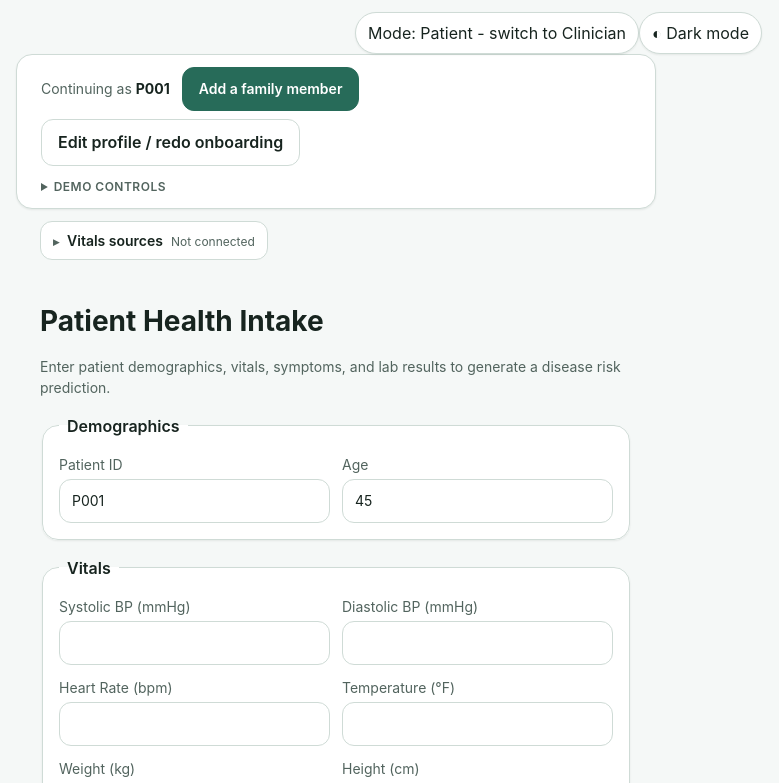
Test: App role selection › lets the role be changed at any time from a visible header control
The image size is (779, 783).
Click the button "Mode: Patient - switch to Clinician". click: click(497, 33)
box: x1=355 y1=12 x2=639 y2=54
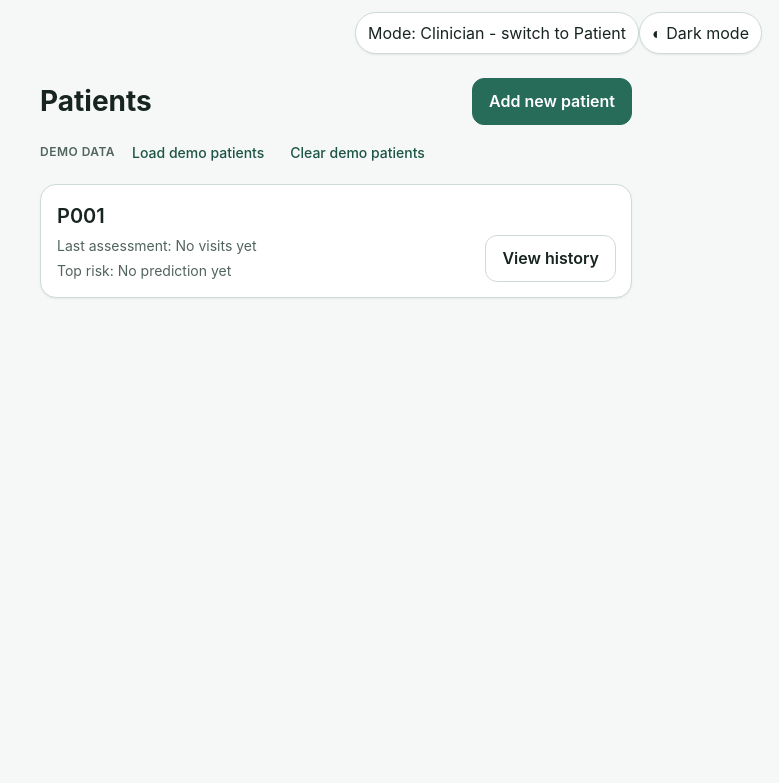
Check: the text "Patients" is shown, box x1=40 y1=80 x2=152 y2=122
